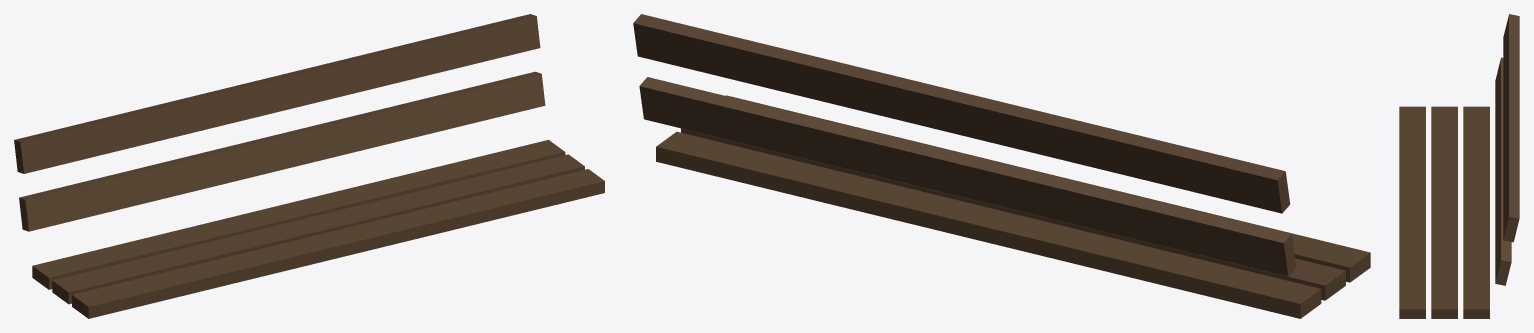
File: SM_Bench_Wood.glb
3 renders of one model, left to right at view 1: azimuth 30°, elevation 25°; view 2: azimuth 150°, elevation 25°; view 3: azimuth 270°, elevation 25°, orthographic. The views are drawn at different scales.
Parts seen in each view (by area): view 1: SM_Bench_Wood; view 2: SM_Bench_Wood; view 3: SM_Bench_Wood.
Boxes of the visible parts, <box> form: SM_Bench_Wood: <box>14,14,604,318</box>; SM_Bench_Wood: <box>633,14,1370,318</box>; SM_Bench_Wood: <box>1399,14,1519,318</box>.
Size of the model in its own units: 1.8 by 0.4232 by 0.4505.
